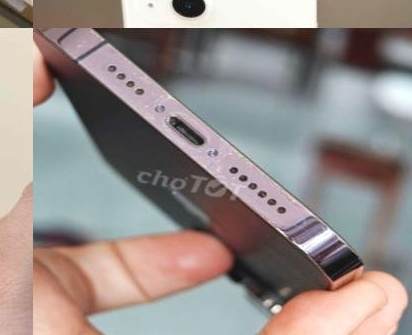scratch: (98, 57, 241, 178), (217, 134, 325, 214), (69, 28, 109, 58)
